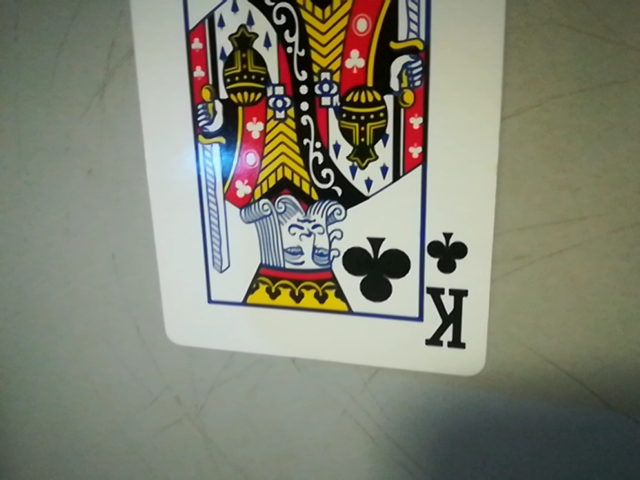mh k: (415, 227, 482, 363)
